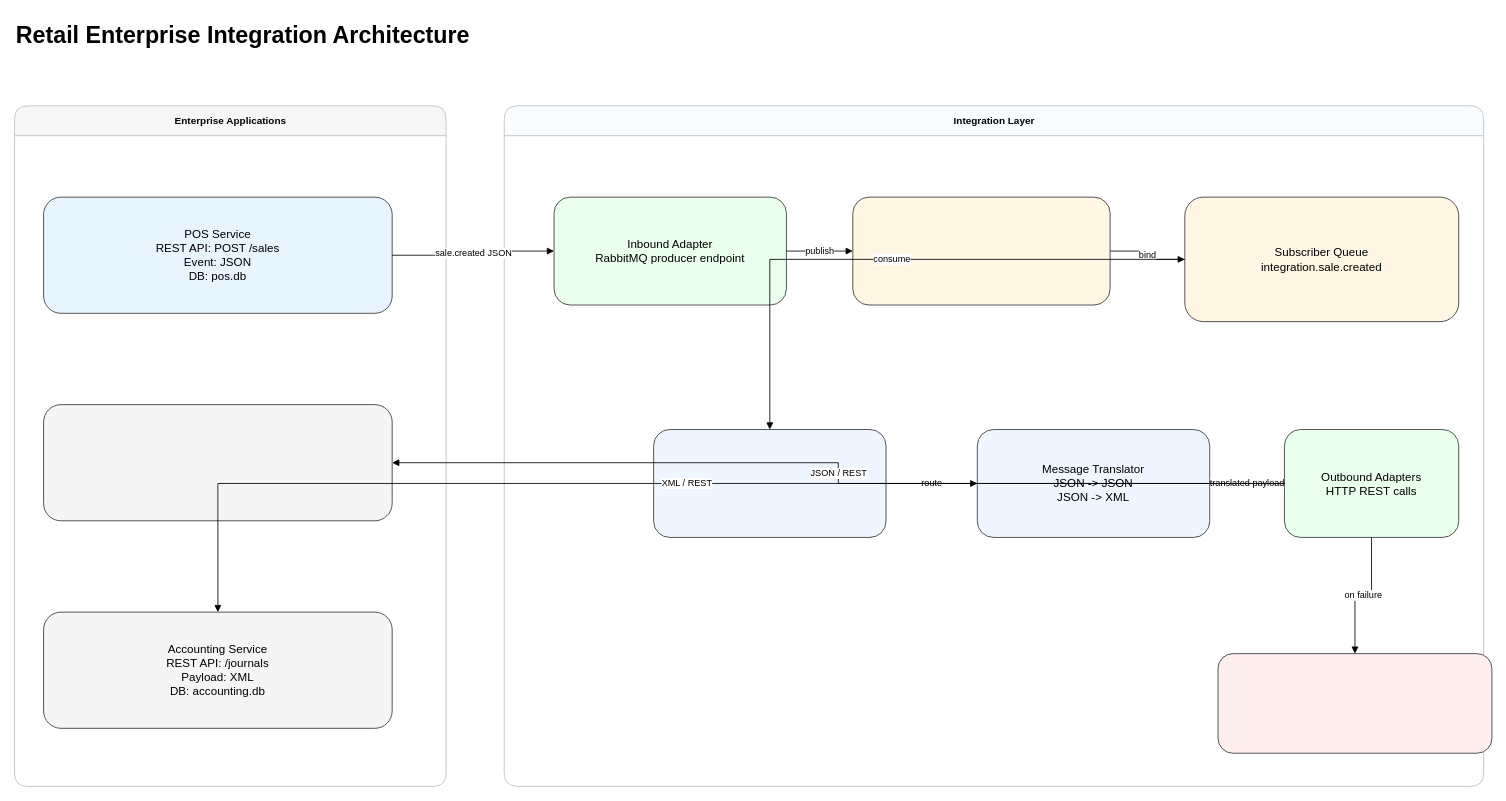
The diagram is 1506 pixels wide and 801 high, and some of its shapes have lost their labels. Each missing label, with the centre of its shape:
"Failed Queue integration.failed" belongs at point (1354, 703).
"Inventory Service REST API: /stock/reduce Payload: JSON DB: inventory.db" belongs at point (217, 462).
"Message Channel RabbitMQ exchange sales.events" belongs at point (981, 250).
"Message Router Route to Inventory + Accounting" belongs at point (769, 483).
